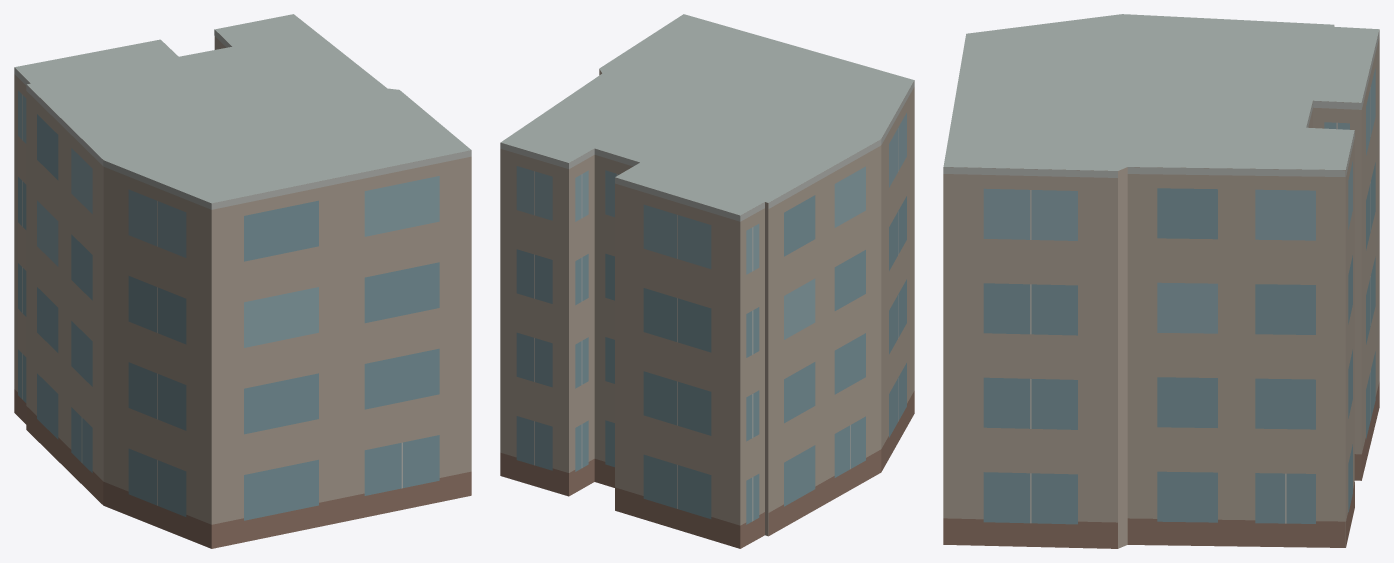
Rendered from survey-upis-32648253.glb.
3 views of the same model, side by side, from view 1: azimuth 30°, elevation 25°; view 2: azimuth 150°, elevation 25°; view 3: azimuth 270°, elevation 25° (orthographic). The views are drawn at different scales.
Parts seen in each view (by area): view 1: survey-upis-32648253.tmp; view 2: survey-upis-32648253.tmp; view 3: survey-upis-32648253.tmp.
Part boxes in pixels (<box>): survey-upis-32648253.tmp: <box>14,14,471,548</box>; survey-upis-32648253.tmp: <box>500,14,914,548</box>; survey-upis-32648253.tmp: <box>943,14,1379,548</box>.
Size of the model in its own units: 11.68 by 13.1 by 13.71.
